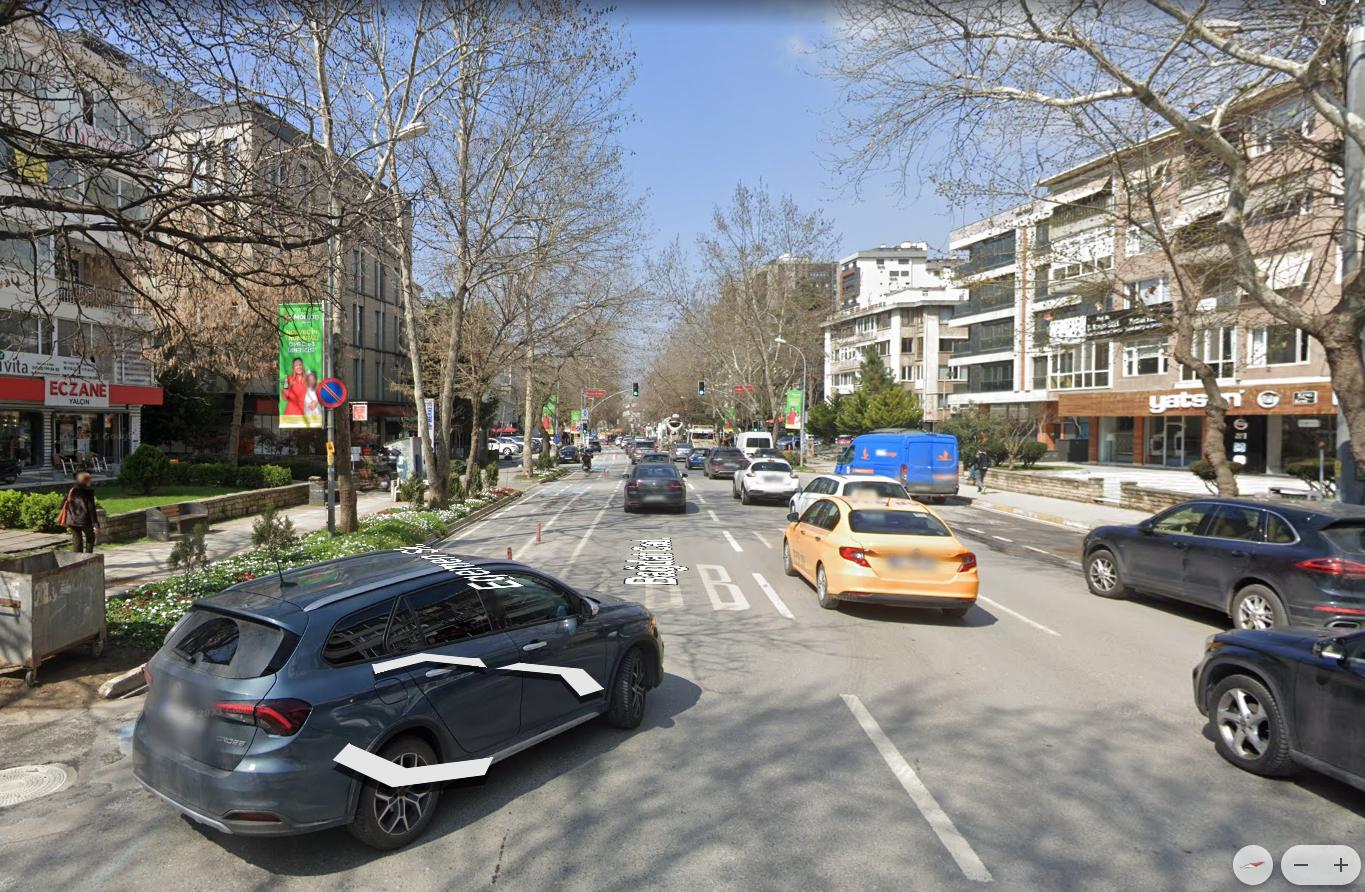greenlight: (698, 380, 705, 395), (633, 383, 639, 396), (753, 419, 759, 432), (582, 423, 587, 435)
nopark: (316, 381, 345, 410)
